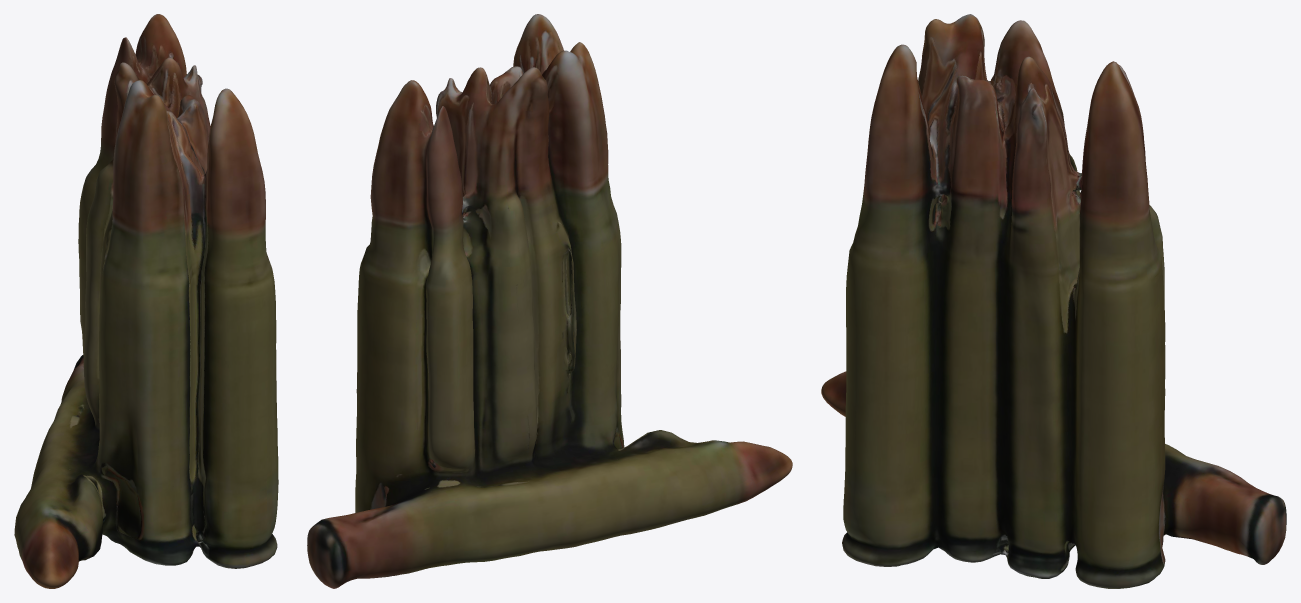
The model's file is 69a21c449137_small_pile_of_rifle.fbx.
3 views of the same model, side by side, from view 1: azimuth 30°, elevation 25°; view 2: azimuth 150°, elevation 25°; view 3: azimuth 270°, elevation 25° (orthographic). The views are drawn at different scales.
Visible parts, largest first — view 1: mesh; view 2: mesh; view 3: mesh.
Boxes of the visible parts, left/top/right/bottom form: mesh: left=14, top=14, right=278, bottom=588; mesh: left=307, top=14, right=792, bottom=588; mesh: left=821, top=14, right=1286, bottom=588.
Bounding box in the file's own units: 67.1 × 99.55 × 83.07.
